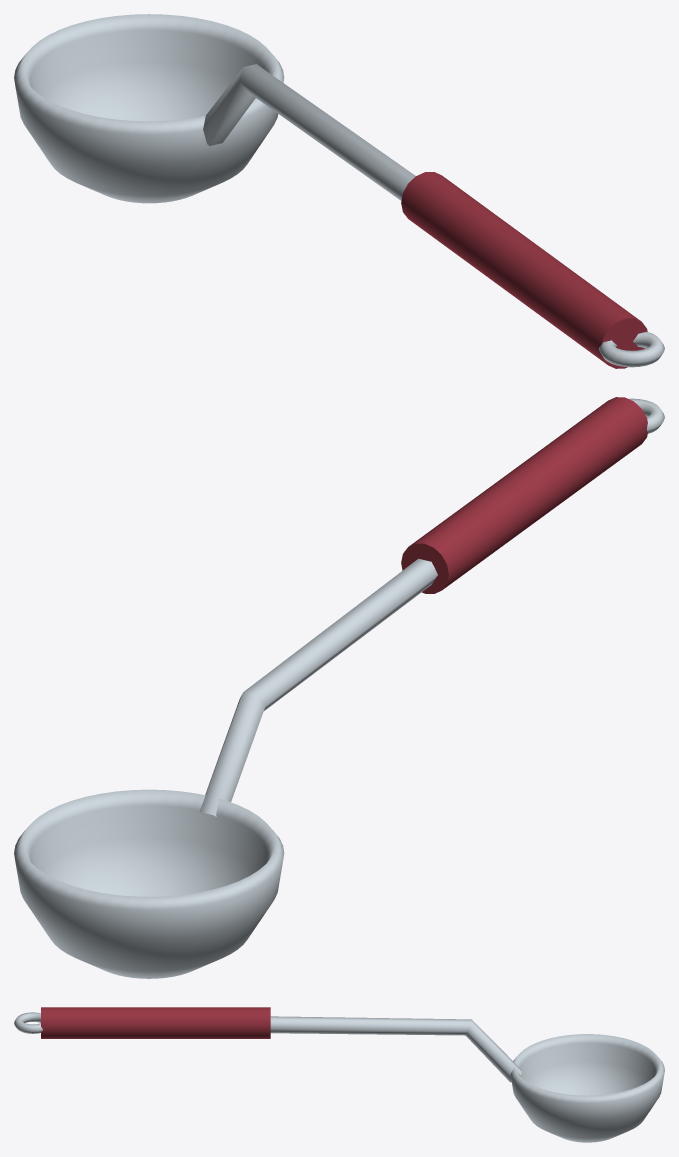
The model's file is utensil_ladle.glb.
The picture shows the model from 3 angles, top to bottom: view 1: azimuth 30°, elevation 25°; view 2: azimuth 150°, elevation 25°; view 3: azimuth 270°, elevation 25°; orthographic projection. The views are drawn at different scales.
Visible parts, largest first — view 1: Deep open ladle cup, Ladle handle grip, Long ladle neck, Ladle handle eye; view 2: Deep open ladle cup, Ladle handle grip, Long ladle neck; view 3: Deep open ladle cup, Ladle handle grip, Long ladle neck, Ladle handle eye.
Boxes of the visible parts, x1=… form: Deep open ladle cup: x1=14, y1=14, x2=284, y2=203; Ladle handle grip: x1=401, y1=172, x2=647, y2=368; Long ladle neck: x1=203, y1=64, x2=415, y2=200; Ladle handle eye: x1=599, y1=331, x2=664, y2=367; Deep open ladle cup: x1=14, y1=789, x2=284, y2=978; Ladle handle grip: x1=401, y1=397, x2=647, y2=593; Long ladle neck: x1=199, y1=558, x2=437, y2=816; Deep open ladle cup: x1=510, y1=1034, x2=664, y2=1142; Ladle handle grip: x1=41, y1=1007, x2=270, y2=1038; Long ladle neck: x1=270, y1=1016, x2=521, y2=1082; Ladle handle eye: x1=14, y1=1012, x2=42, y2=1033.
Size of the model in its own units: 0.098 by 0.085 by 0.411.
